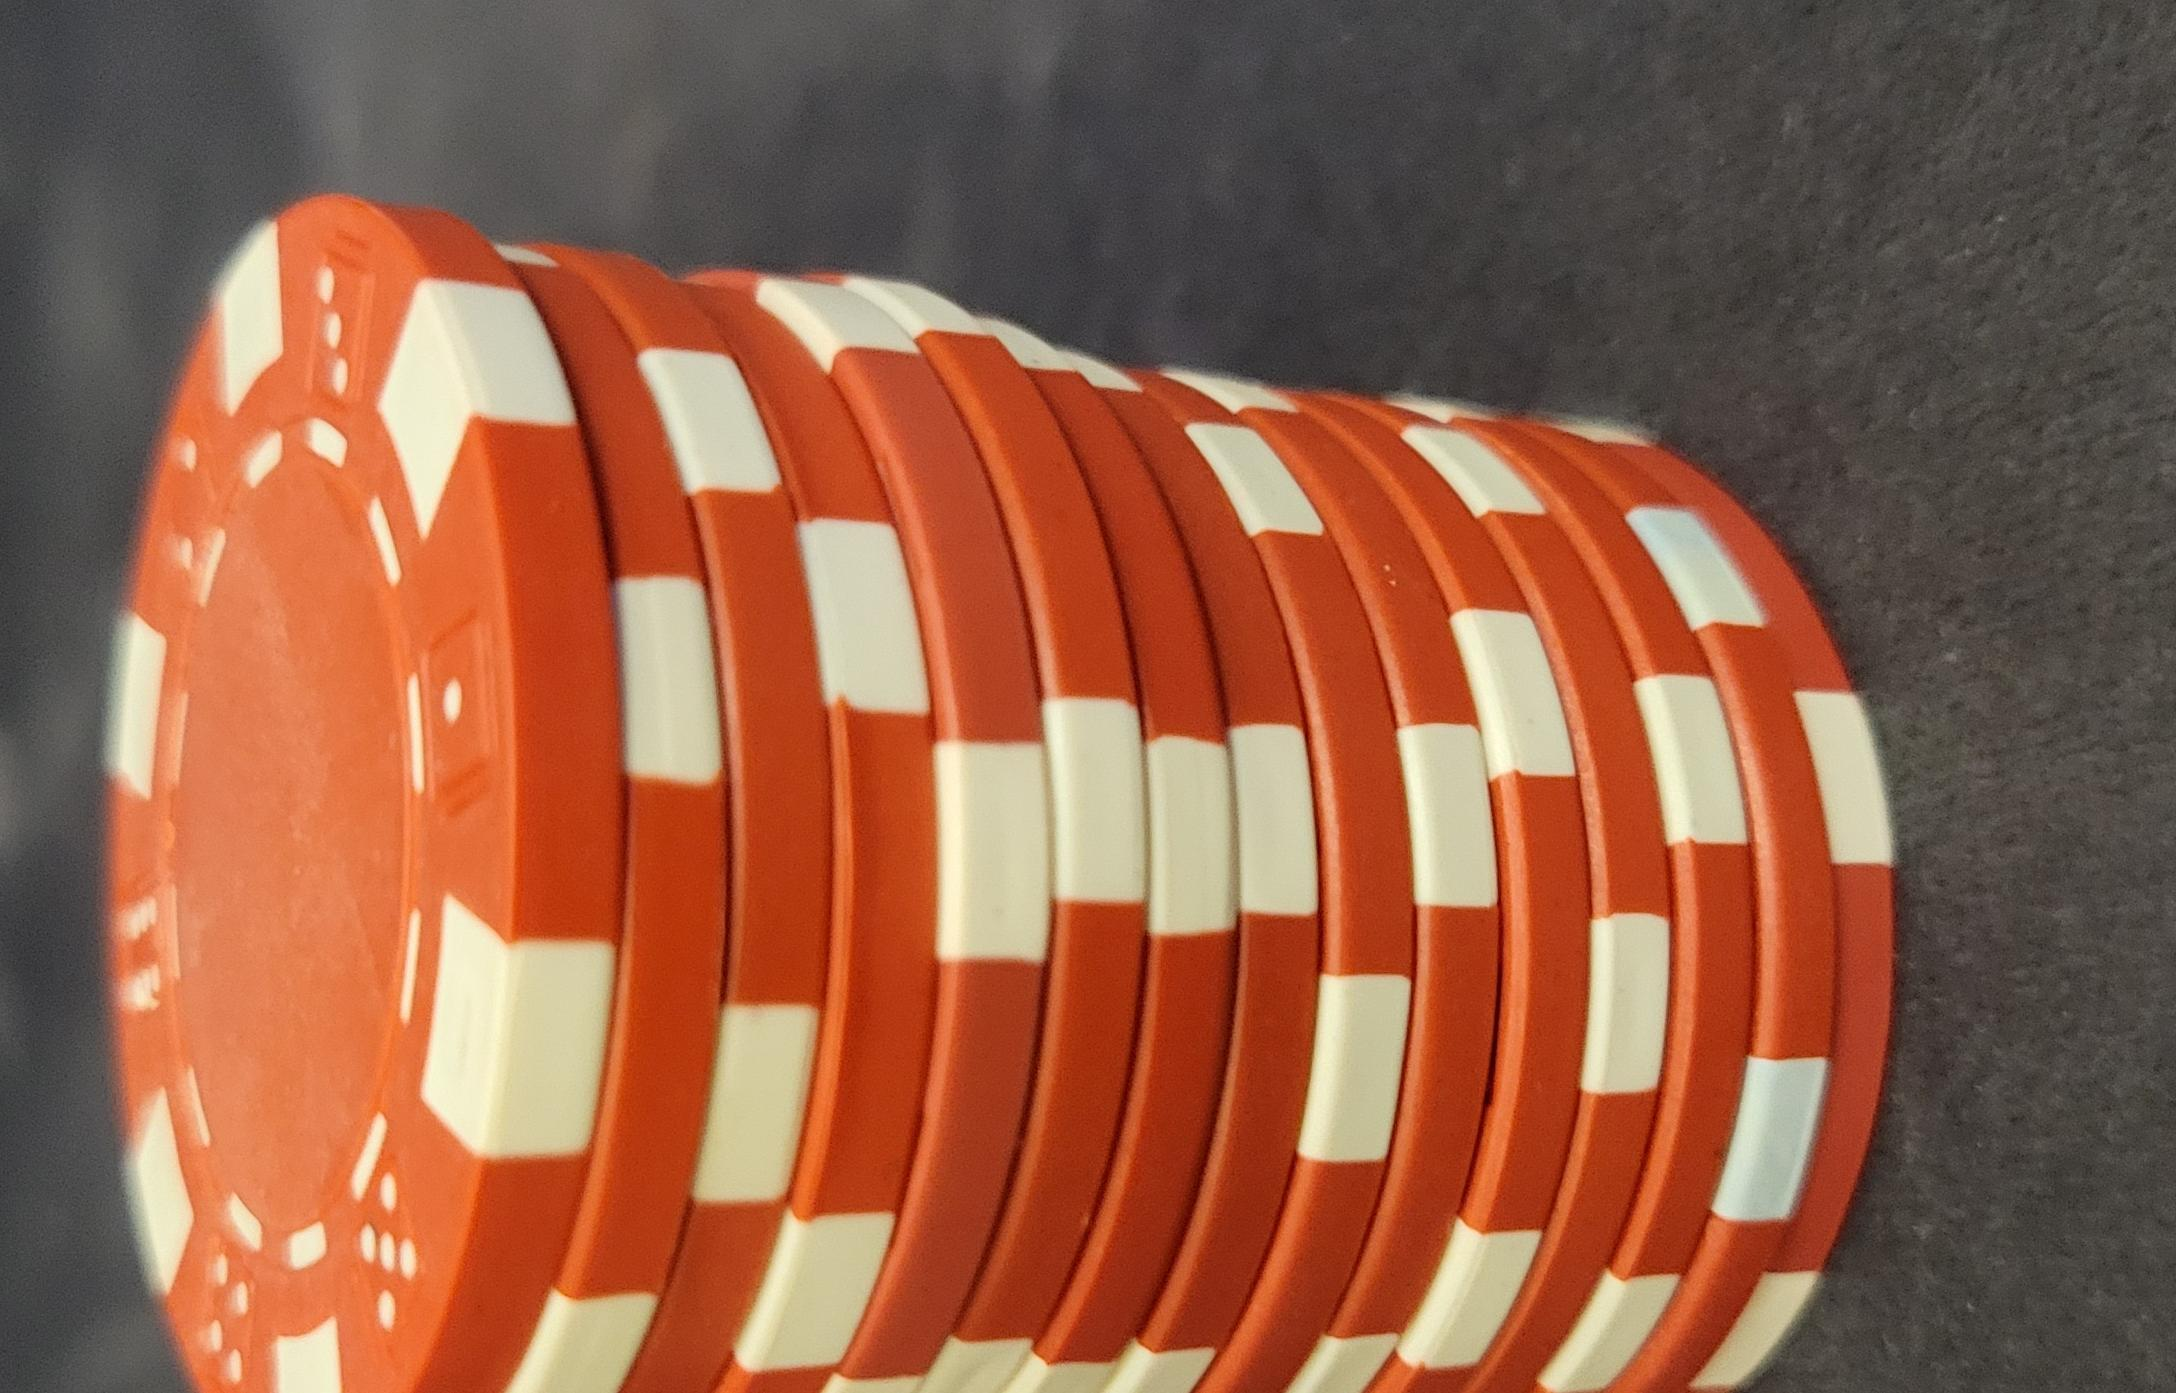Chip: (2, 224, 1427, 1393)
